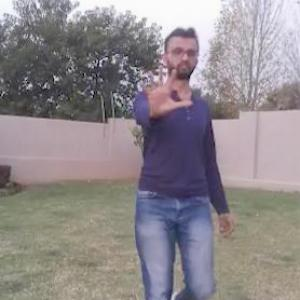follow_hand: (137, 61, 192, 116)
